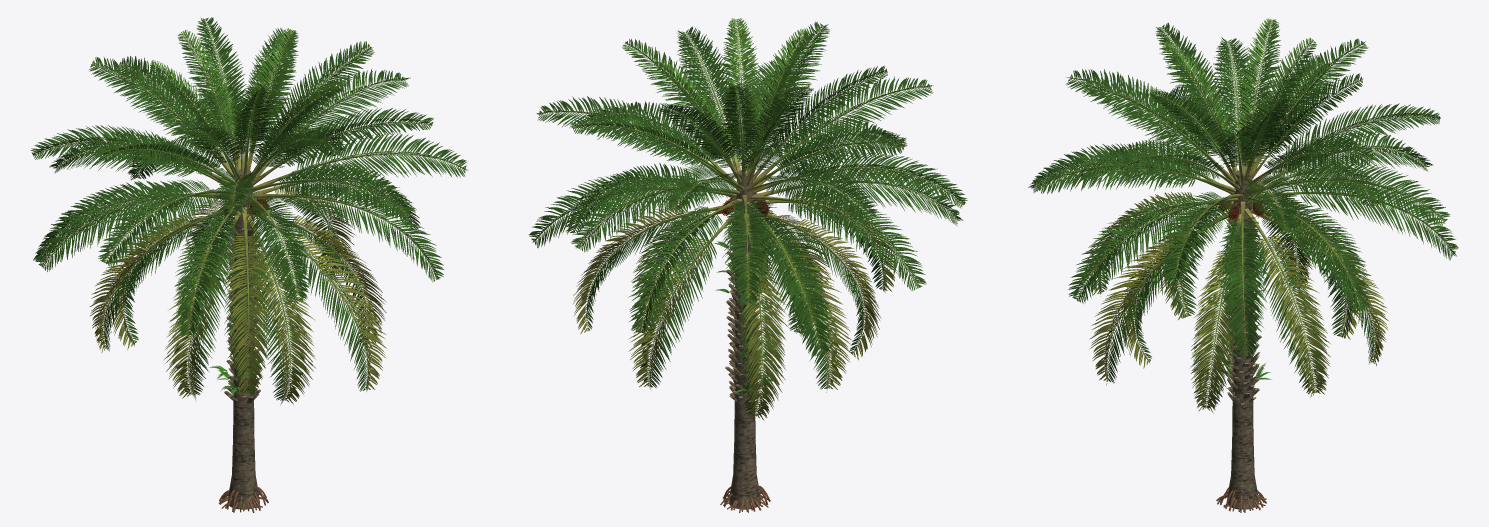
The model's file is mature-oil-palm-tree-with-fruit-bunches.glb.
The picture shows the model from 3 angles, left to right: view 1: azimuth 30°, elevation 25°; view 2: azimuth 150°, elevation 25°; view 3: azimuth 270°, elevation 25°; orthographic projection.
Visible parts, largest first — view 1: Pinnate leaflets in two ranks per side (alpha-cut), petiole , Frond petioles and rachises (spiny petioles), Oil palm trunk (frond-base remains, bark), Persistent cut frond bases (boots), Roots, spear leaves, bunch cores, spines and stalks, male in; view 2: Pinnate leaflets in two ranks per side (alpha-cut), petiole , Frond petioles and rachises (spiny petioles), Oil palm trunk (frond-base remains, bark), Persistent cut frond bases (boots), Roots, spear leaves, bunch cores, spines and stalks, male in; view 3: Pinnate leaflets in two ranks per side (alpha-cut), petiole , Frond petioles and rachises (spiny petioles), Oil palm trunk (frond-base remains, bark), Persistent cut frond bases (boots), Roots, spear leaves, bunch cores, spines and stalks, male in.
Boxes of the visible parts, x1,y1,x2,y2 form: Pinnate leaflets in two ranks per side (alpha-cut), petiole : (30, 17, 468, 405); Frond petioles and rachises (spiny petioles): (33, 19, 464, 399); Oil palm trunk (frond-base remains, bark): (227, 169, 259, 509); Persistent cut frond bases (boots): (224, 216, 262, 403); Roots, spear leaves, bunch cores, spines and stalks, male in: (218, 119, 268, 512); Pinnate leaflets in two ranks per side (alpha-cut), petiole : (528, 18, 967, 420); Frond petioles and rachises (spiny petioles): (535, 19, 963, 415); Oil palm trunk (frond-base remains, bark): (729, 170, 760, 509); Persistent cut frond bases (boots): (725, 220, 763, 405); Roots, spear leaves, bunch cores, spines and stalks, male in: (720, 125, 770, 512); Pinnate leaflets in two ranks per side (alpha-cut), petiole : (1028, 18, 1458, 413); Frond petioles and rachises (spiny petioles): (1034, 20, 1452, 407); Oil palm trunk (frond-base remains, bark): (1227, 170, 1258, 509); Persistent cut frond bases (boots): (1223, 218, 1261, 406); Roots, spear leaves, bunch cores, spines and stalks, male in: (1216, 119, 1266, 512).
Size of the model in its own units: 10.76 by 11.45 by 10.59.
Materials: 4 (4 with a texture image).
